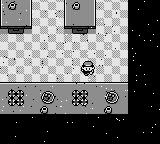main: (81, 62, 95, 75)
no-caminable: (2, 0, 160, 142), (0, 82, 129, 114), (1, 0, 32, 34), (65, 0, 95, 34)
